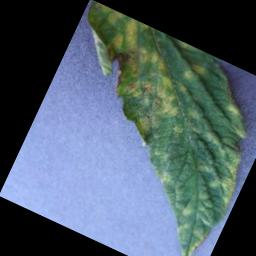Leaf_Mold: (47, 1, 204, 151), (207, 148, 251, 212)
